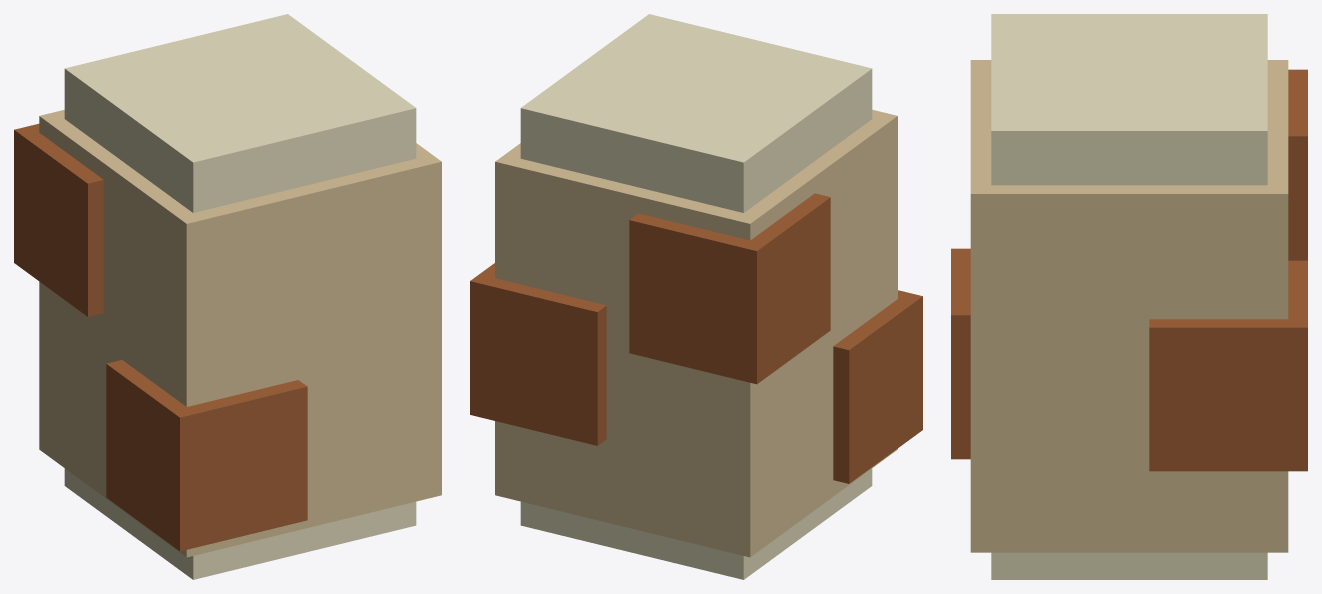
The model's file is egg_ankylosaurus.obj.
3 views of the same model, side by side, from view 1: azimuth 30°, elevation 25°; view 2: azimuth 150°, elevation 25°; view 3: azimuth 270°, elevation 25° (orthographic). The views are drawn at different scales.
Parts seen in each view (by area): view 1: egg_ankylosaurus; view 2: egg_ankylosaurus; view 3: egg_ankylosaurus.
Boxes of the visible parts, x1,y1,x2,y2 form: egg_ankylosaurus: (14,14,441,579); egg_ankylosaurus: (470,14,922,579); egg_ankylosaurus: (951,14,1307,579).
Size of the model in its own units: 5.23 by 7.27 by 5.24.
